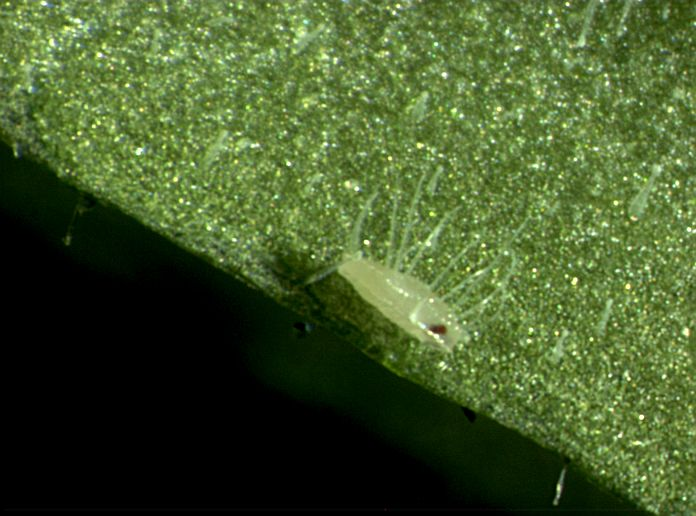whitefly: (337, 219, 470, 354)
